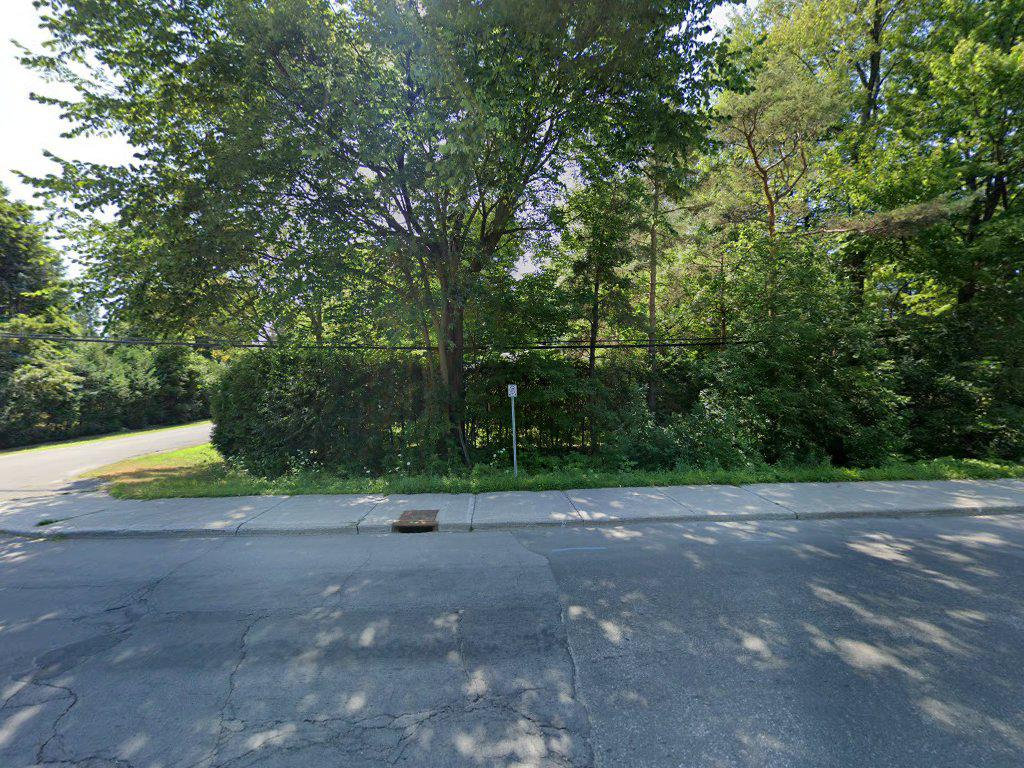trunk: (434, 309, 473, 469)
